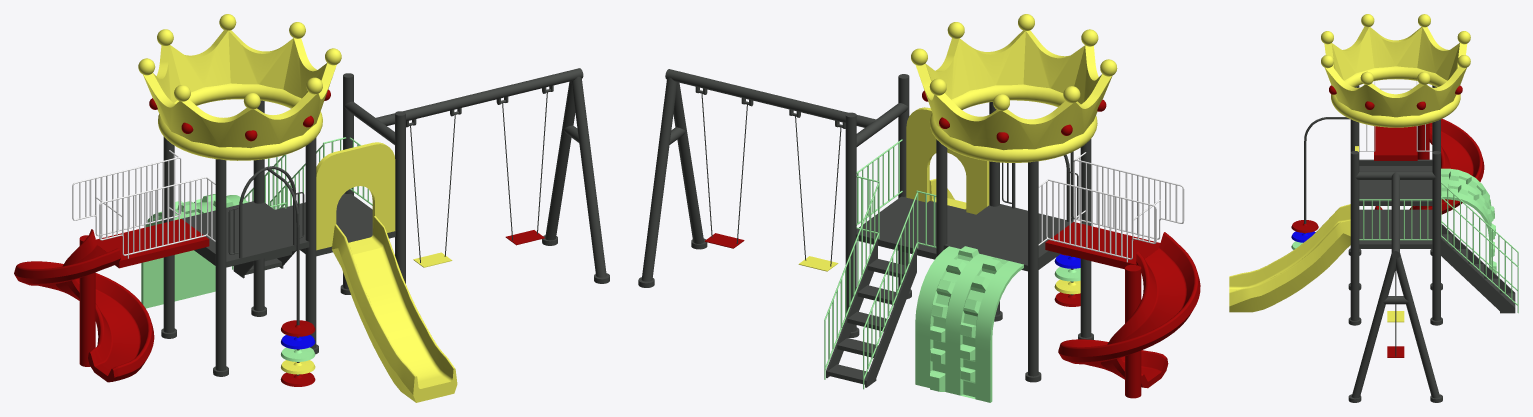
Rendered from playground_model.glb.
3 views of the same model, side by side, from view 1: azimuth 30°, elevation 25°; view 2: azimuth 150°, elevation 25°; view 3: azimuth 270°, elevation 25° (orthographic). The views are drawn at different scales.
Parts seen in each view (by area): view 1: Barandales_1_lambert5_0; view 2: Barandales_1_lambert5_0; view 3: Barandales_1_lambert5_0.
Part boxes in pixels (x1,y1,x2,y2): Barandales_1_lambert5_0: (14,14,609,402); Barandales_1_lambert5_0: (638,14,1200,402); Barandales_1_lambert5_0: (1229,14,1518,402).
Bounding box in the file's own units: 0.2344 × 0.1205 × 0.1388.
1 material, 1 textured.
